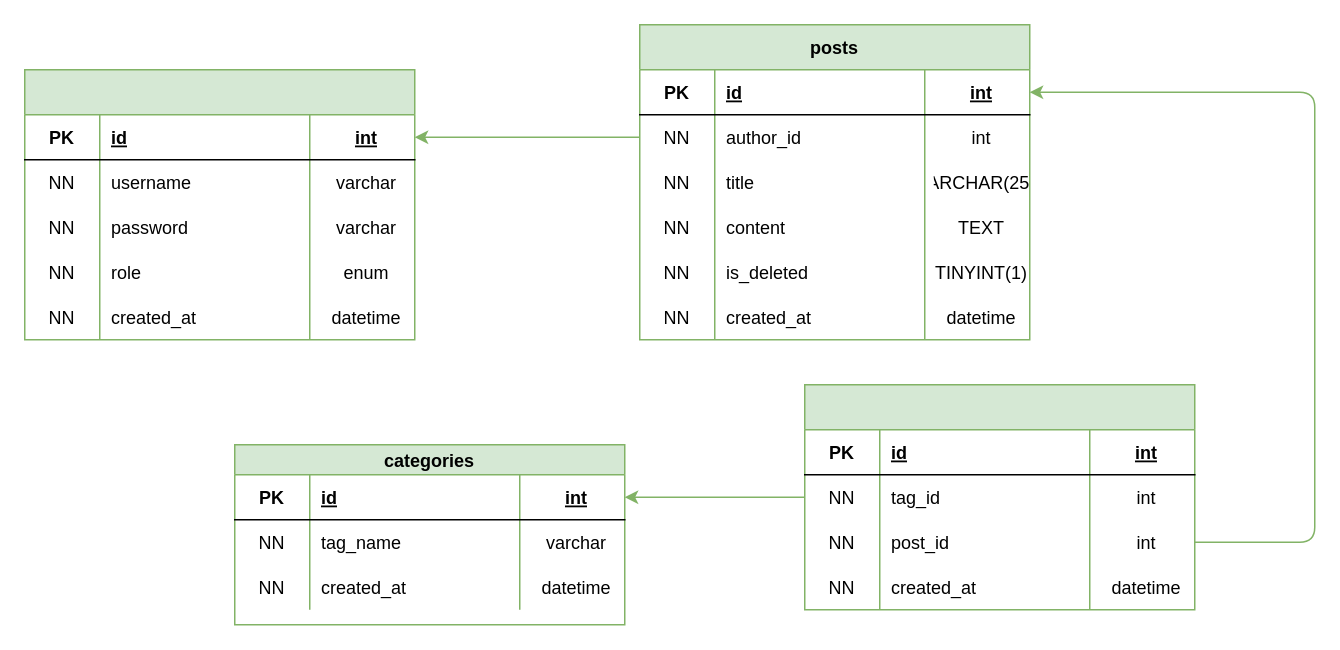
Some shapes in this 1340 by 650 pixel diagram are drawn without their labels. Each missing label, with the box of its shape:
category_post: (803, 383, 1195, 610)
members: (23, 68, 415, 340)
